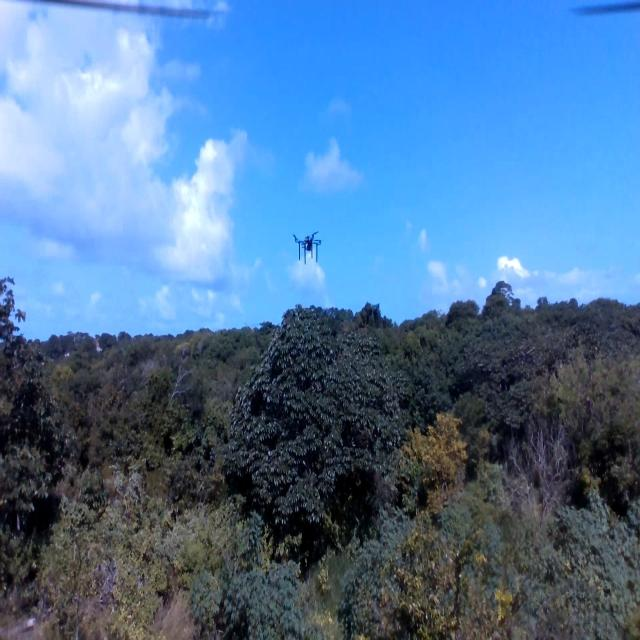-uav-: (288, 218, 332, 283)
